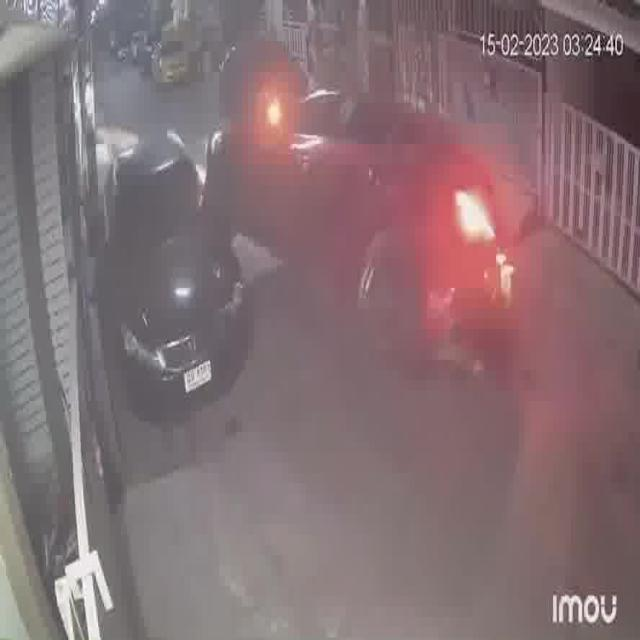multiple_accident: (88, 80, 524, 435)
